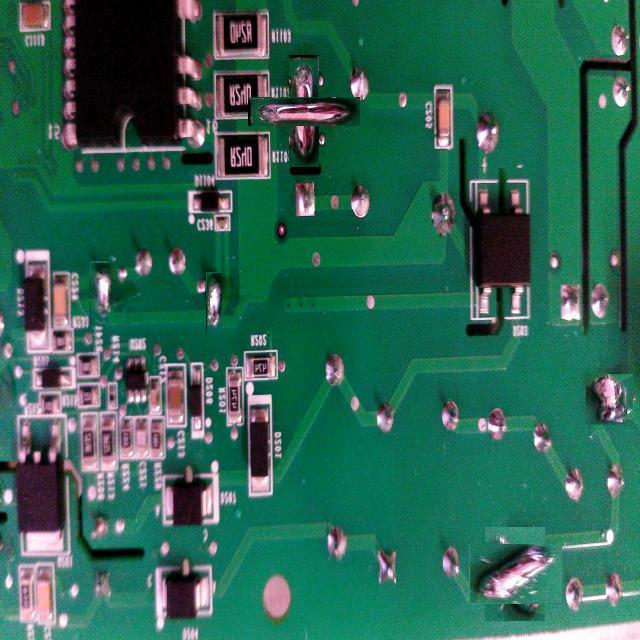Short_circuit: (477, 536, 554, 613), (269, 76, 340, 146), (585, 375, 635, 424), (90, 262, 111, 322), (206, 272, 222, 332)
